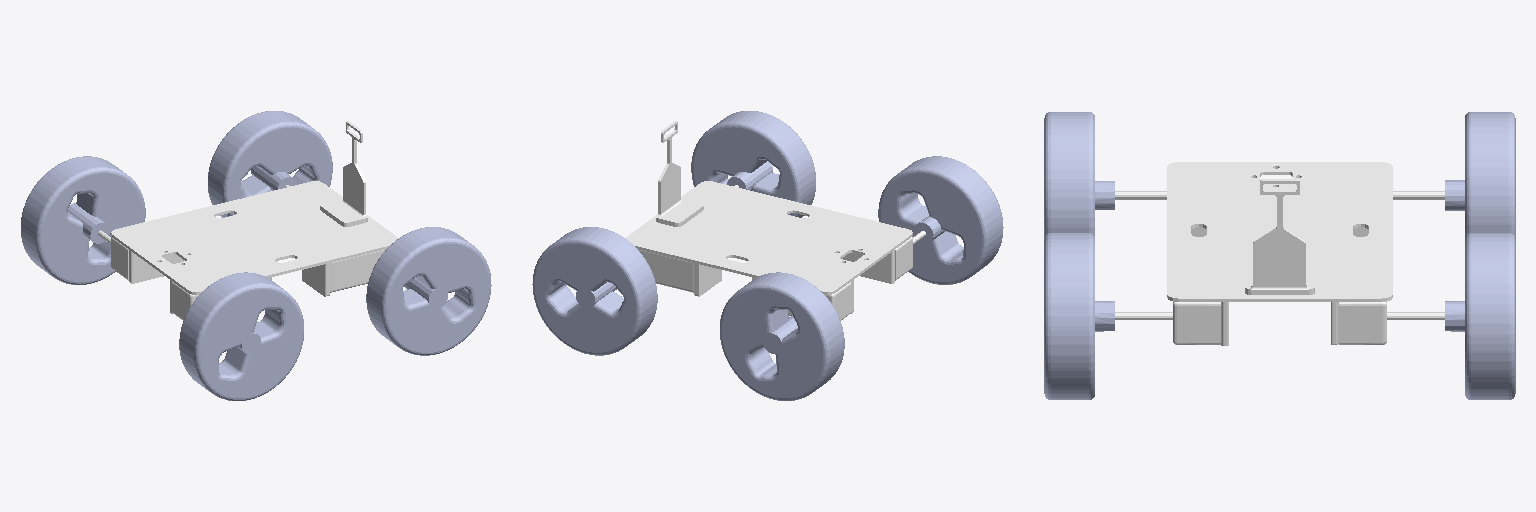
URDF robot description (Assem2):
<?xml version="1.0" encoding="utf-8"?>
<!-- This URDF was automatically created by SolidWorks to URDF Exporter! Originally created by [author] ([email redacted]) 
     Commit Version: 1.6.0-4-g7f85cfe  Build Version: 1.6.7995.38578
     For more information, please see http://wiki.ros.org/sw_urdf_exporter -->
<robot
  name="Assem2">
  <link
    name="base_link">
    <inertial>
      <origin
        xyz="0.0104893096012664 -8.00198228763094E-05 -0.0357153681760935"
        rpy="0 0 0" />
      <mass
        value="6.45991309949141" />
      <inertia
        ixx="0.0300351387274575"
        ixy="2.20452570589114E-05"
        ixz="-0.00170496002630324"
        iyy="0.0672051143318267"
        iyz="-8.20582621481869E-06"
        izz="0.0889964768947195" />
    </inertial>
    <visual>
      <origin
        xyz="0 0 0"
        rpy="0 0 0" />
      <geometry>
        <mesh
          filename="package://Assem2/meshes/base_link.STL" />
      </geometry>
      <material
        name="">
        <color
          rgba="1 1 1 1" />
      </material>
    </visual>
    <collision>
      <origin
        xyz="0 0 0"
        rpy="0 0 0" />
      <geometry>
        <mesh
          filename="package://Assem2/meshes/base_link.STL" />
      </geometry>
    </collision>
  </link>
  <link
    name="right_f_link">
    <inertial>
      <origin
        xyz="0 0.041206 0"
        rpy="0 0 0" />
      <mass
        value="3.8381" />
      <inertia
        ixx="0.020177"
        ixy="7.0643E-19"
        ixz="-0.00065144"
        iyy="0.035211"
        iyz="-3.9681E-19"
        izz="0.019265" />
    </inertial>
    <visual>
      <origin
        xyz="0 0 0"
        rpy="0 0 0" />
      <geometry>
        <mesh
          filename="package://Assem2/meshes/right_f_link.STL" />
      </geometry>
      <material
        name="">
        <color
          rgba="0.79216 0.81961 0.93333 1" />
      </material>
    </visual>
    <collision>
      <origin
        xyz="0 0 0"
        rpy="0 0 0" />
      <geometry>
        <mesh
          filename="package://Assem2/meshes/right_f_link.STL" />
      </geometry>
    </collision>
  </link>
  <joint
    name="joint_1"
    type="continuous">
    <origin
      xyz="0.23047 -0.37087 -0.04445"
      rpy="0 0 0" />
    <parent
      link="base_link" />
    <child
      link="right_f_link" />
    <axis
      xyz="0 -1 0" />
  </joint>
  <link
    name="left_f_Link">
    <inertial>
      <origin
        xyz="-1.0408E-17 0.070643 -2.7756E-17"
        rpy="0 0 0" />
      <mass
        value="3.8381" />
      <inertia
        ixx="0.020441"
        ixy="2.7255E-19"
        ixz="-0.00033791"
        iyy="0.035211"
        iyz="-2.7971E-19"
        izz="0.019001" />
    </inertial>
    <visual>
      <origin
        xyz="0 0 0"
        rpy="0 0 0" />
      <geometry>
        <mesh
          filename="package://Assem2/meshes/left_f_Link.STL" />
      </geometry>
      <material
        name="">
        <color
          rgba="0.79216 0.81961 0.93333 1" />
      </material>
    </visual>
    <collision>
      <origin
        xyz="0 0 0"
        rpy="0 0 0" />
      <geometry>
        <mesh
          filename="package://Assem2/meshes/left_f_Link.STL" />
      </geometry>
    </collision>
  </link>
  <joint
    name="joint_2"
    type="continuous">
    <origin
      xyz="0.23047 0.25887 -0.04445"
      rpy="0 0 0" />
    <parent
      link="base_link" />
    <child
      link="left_f_Link" />
    <axis
      xyz="0 1 0" />
  </joint>
  <link
    name="right_b_Link">
    <inertial>
      <origin
        xyz="0 0.0412058764495742 0"
        rpy="0 0 0" />
      <mass
        value="3.83812310766081" />
      <inertia
        ixx="0.0199129886379947"
        ixy="2.57696656795095E-18"
        ixz="0.000771736254386727"
        iyy="0.0352113922978309"
        iyz="-1.10528759304915E-18"
        izz="0.0195290972761954" />
    </inertial>
    <visual>
      <origin
        xyz="0 0 0"
        rpy="0 0 0" />
      <geometry>
        <mesh
          filename="package://Assem2/meshes/right_b_Link.STL" />
      </geometry>
      <material
        name="">
        <color
          rgba="0.792156862745098 0.819607843137255 0.933333333333333 1" />
      </material>
    </visual>
    <collision>
      <origin
        xyz="0 0 0"
        rpy="0 0 0" />
      <geometry>
        <mesh
          filename="package://Assem2/meshes/right_b_Link.STL" />
      </geometry>
    </collision>
  </link>
  <joint
    name="joint_3"
    type="continuous">
    <origin
      xyz="-0.21911 -0.37087 -0.04445"
      rpy="0 0 0" />
    <parent
      link="base_link" />
    <child
      link="right_b_Link" />
    <axis
      xyz="0 -1 0" />
  </joint>
  <link
    name="left_b_Link">
    <inertial>
      <origin
        xyz="0 0.070643 0"
        rpy="0 0 0" />
      <mass
        value="3.8381" />
      <inertia
        ixx="0.019204"
        ixy="-1.7768E-18"
        ixz="-0.0006039"
        iyy="0.035211"
        iyz="1.9541E-18"
        izz="0.020238" />
    </inertial>
    <visual>
      <origin
        xyz="0 0 0"
        rpy="0 0 0" />
      <geometry>
        <mesh
          filename="package://Assem2/meshes/left_b_Link.STL" />
      </geometry>
      <material
        name="">
        <color
          rgba="0.79216 0.81961 0.93333 1" />
      </material>
    </visual>
    <collision>
      <origin
        xyz="0 0 0"
        rpy="0 0 0" />
      <geometry>
        <mesh
          filename="package://Assem2/meshes/left_b_Link.STL" />
      </geometry>
    </collision>
  </link>
  <joint
    name="joint_4"
    type="continuous">
    <origin
      xyz="-0.21911 0.25887 -0.04445"
      rpy="0 0 0" />
    <parent
      link="base_link" />
    <child
      link="left_b_Link" />
    <axis
      xyz="0 1 0" />
  </joint>
</robot>

--- What the picture shows (computed from the rendered views, not written in the file) ---
Views: 3 orthographic renders of the robot side by side, from view 1: azimuth 30°, elevation 25°; view 2: azimuth 150°, elevation 25°; view 3: azimuth 270°, elevation 25°.
Robot: Assem2 — 5 links, 4 joints (4 continuous); root link base_link; default pose: every joint at zero.
Visible links, largest first — view 1: base_link, right_f_link, right_b_Link, left_b_Link, left_f_Link; view 2: base_link, left_f_Link, left_b_Link, right_b_Link, right_f_link; view 3: base_link, left_f_Link, right_f_link, left_b_Link, right_b_Link.
Link boxes in pixels (<box>): base_link: <box>98,121,398,320</box>; right_f_link: <box>366,227,491,355</box>; right_b_Link: <box>179,272,303,400</box>; left_b_Link: <box>21,156,145,284</box>; left_f_Link: <box>208,111,332,217</box>; base_link: <box>625,121,925,320</box>; left_f_Link: <box>532,227,657,355</box>; left_b_Link: <box>720,272,844,400</box>; right_b_Link: <box>878,156,1003,284</box>; right_f_link: <box>691,111,815,217</box>; base_link: <box>1115,162,1444,345</box>; left_f_Link: <box>1445,233,1515,399</box>; right_f_link: <box>1044,233,1114,399</box>; left_b_Link: <box>1445,112,1515,238</box>; right_b_Link: <box>1044,112,1114,238</box>.
Bounding box of the posed robot: 0.7131 × 0.7401 × 0.3741 m (x, y, z).
Meshes: 5 distinct files referenced, 5 mesh visuals loaded (5 binary STL).